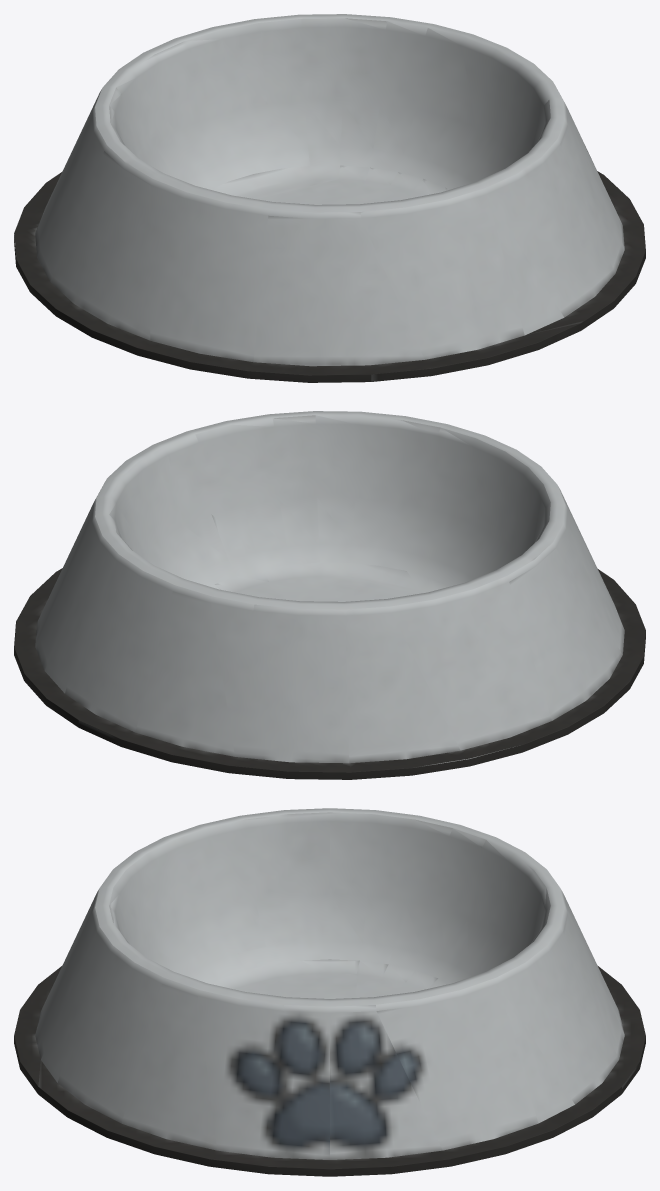
The model's file is cat_bowl.glb.
3 views of the same model, one above another, from view 1: azimuth 30°, elevation 25°; view 2: azimuth 150°, elevation 25°; view 3: azimuth 270°, elevation 25° (orthographic).
Parts seen in each view (by area): view 1: mesh; view 2: mesh; view 3: mesh.
Part boxes in pixels (bbox=[...]): mesh: bbox=[14, 14, 645, 382]; mesh: bbox=[14, 411, 645, 779]; mesh: bbox=[14, 808, 645, 1176].
Size of the model in its own units: 0.2249 by 0.054 by 0.2249.
1 material, 1 textured.
